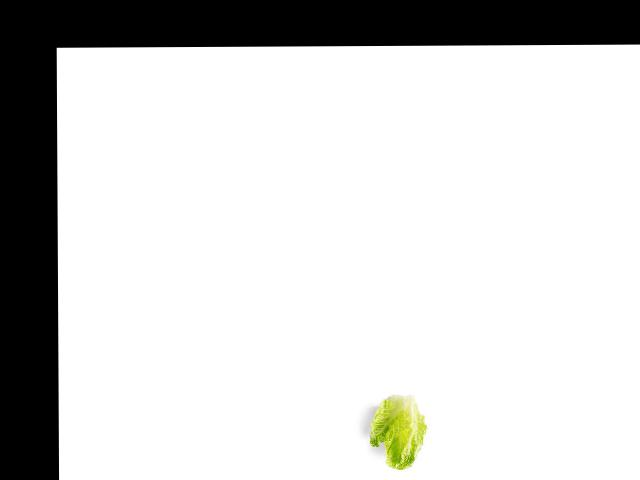lettuce: (368, 387, 429, 474)
